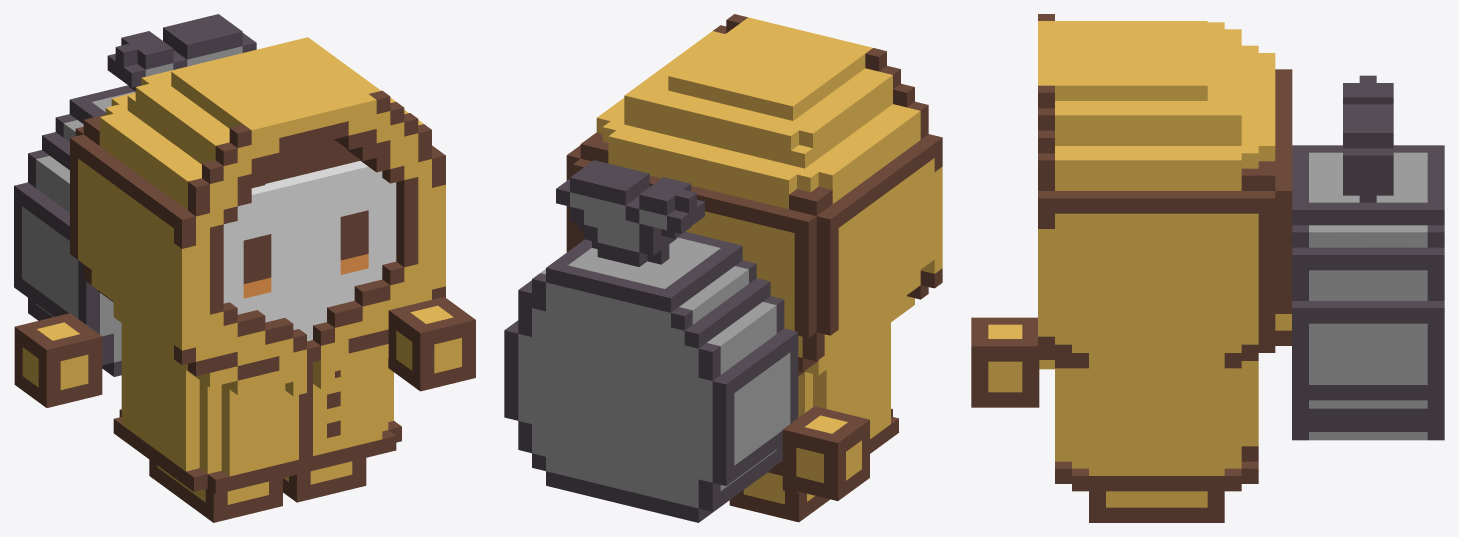
The model's file is p1_trash_hold_grab.gltf.
3 views of the same model, side by side, from view 1: azimuth 30°, elevation 25°; view 2: azimuth 150°, elevation 25°; view 3: azimuth 270°, elevation 25° (orthographic). The views are drawn at different scales.
Visible parts, largest first — view 1: Object_0.002, Object_0.003; view 2: Object_0.002; view 3: Object_0.002, Object_0.003.
Boxes of the visible parts, box(x1,y1,x2,y2) form: Object_0.002: box(14, 14, 445, 522); Object_0.003: box(388, 297, 475, 391); Object_0.002: box(504, 14, 942, 522); Object_0.002: box(1038, 14, 1444, 522); Object_0.003: box(971, 317, 1039, 407).
Bounding box in the file's own units: 2.13 × 2.8 × 2.79.
Materials: 4 (4 with a texture image).
